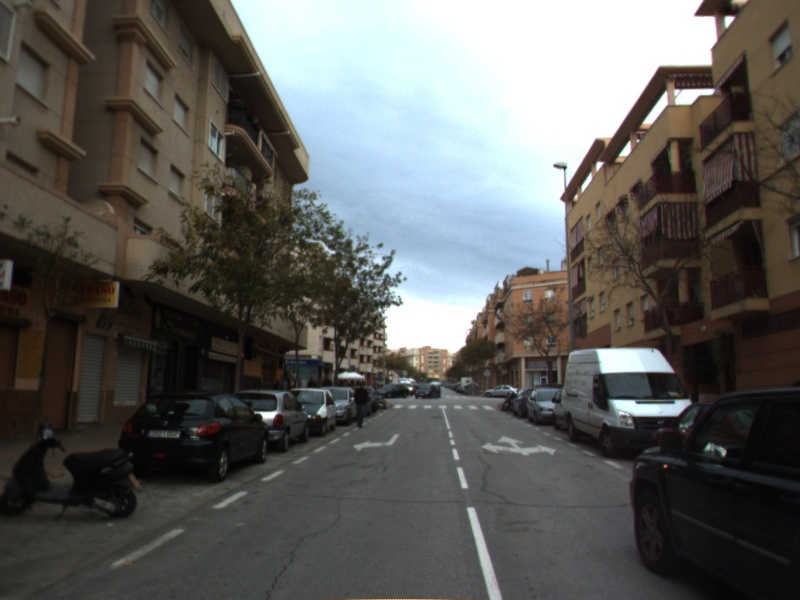STRAIGHT_LEFT_RIGHT: (479, 434, 558, 457)
